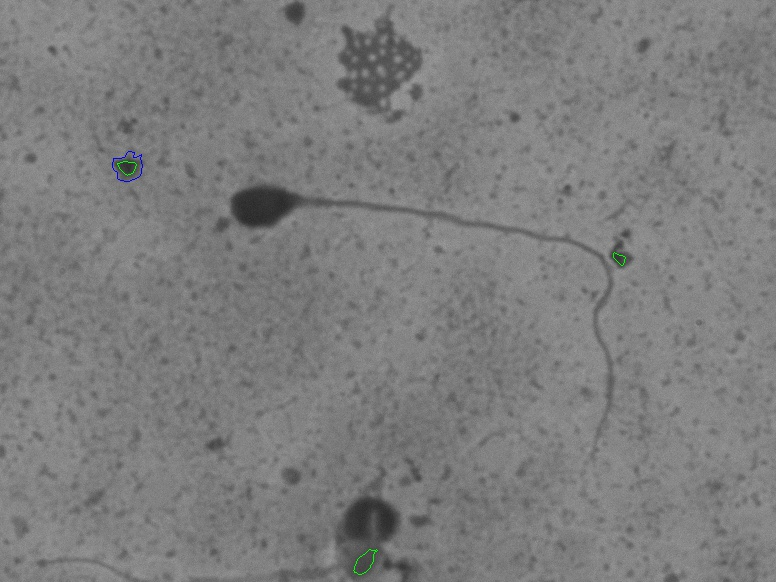Abnormal: (192, 159, 666, 476)
